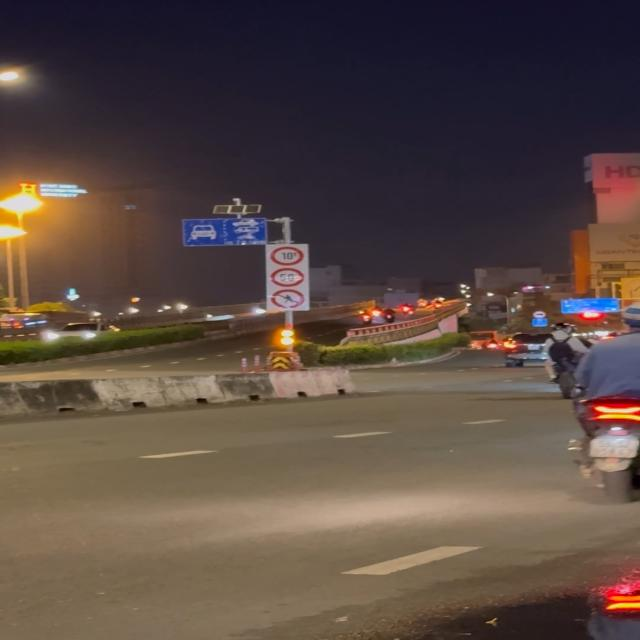Bien bao cam nguoi di bo: (272, 288, 305, 308)
Bien bao toc do toi da cho phep: (270, 267, 307, 289)
